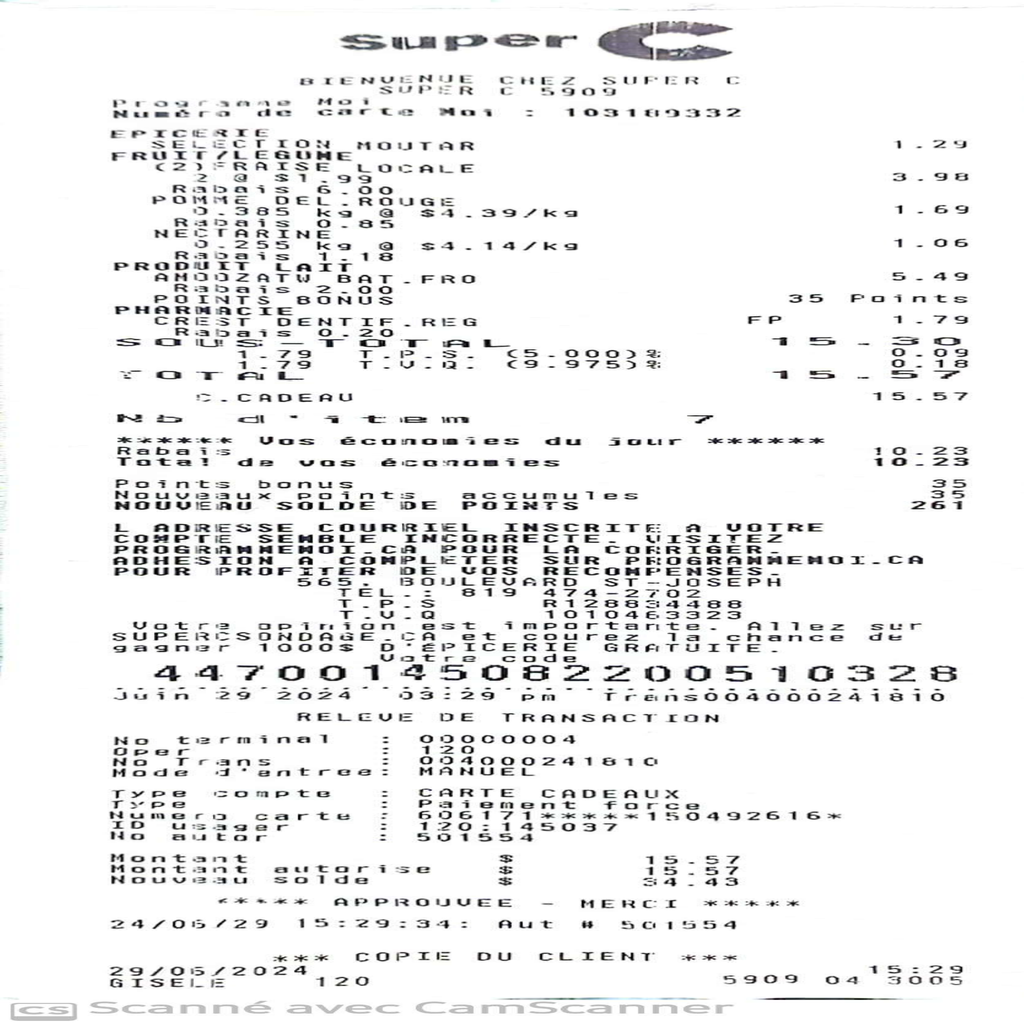recipt: (4, 2, 1022, 1018)
